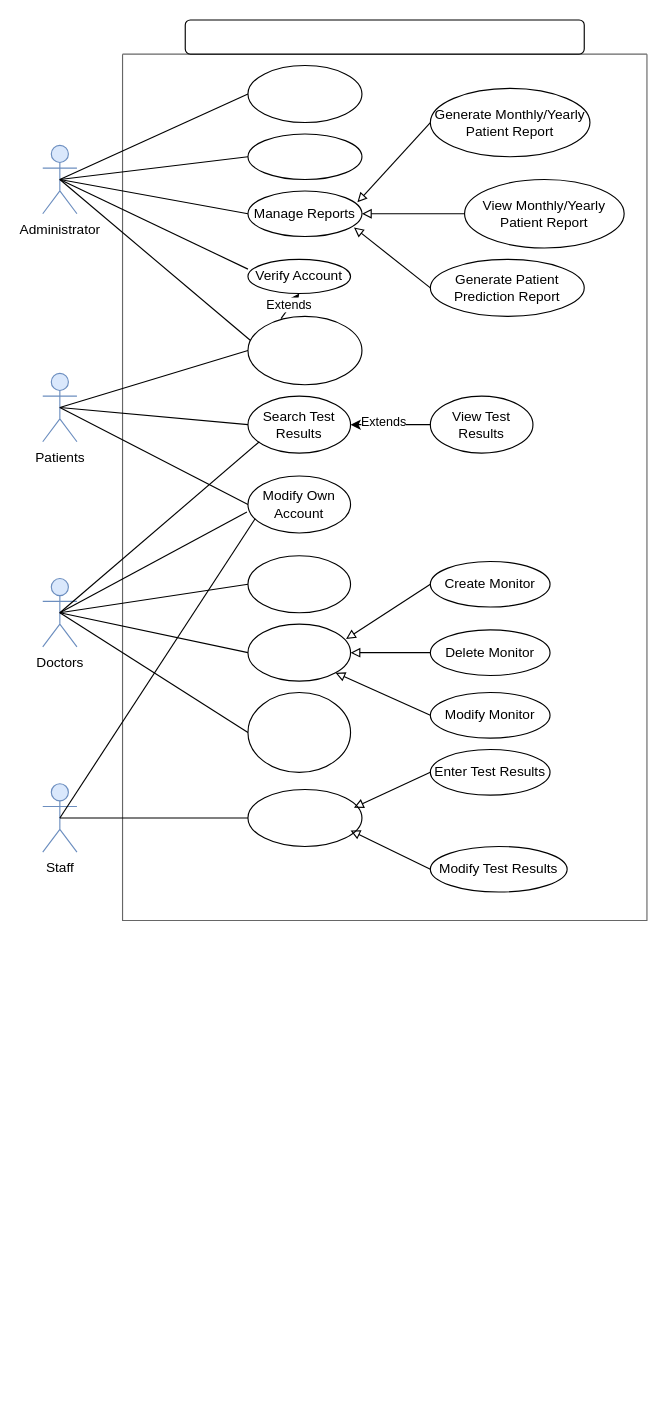
This 667x1408 diagram has some shape labels left out. Each missing label, with the centre of its shape:
Create Account: (x=304, y=350)
Delete Account: (x=304, y=156)
Delete Test Results: (x=304, y=93)
Manage Smart Monitors: (x=299, y=652)
Manage Test Results: (x=304, y=817)
Online Health Monitoring System: (x=384, y=36)
Prescribe Exams: (x=299, y=584)
View Patient Prediction Report: (x=299, y=731)
